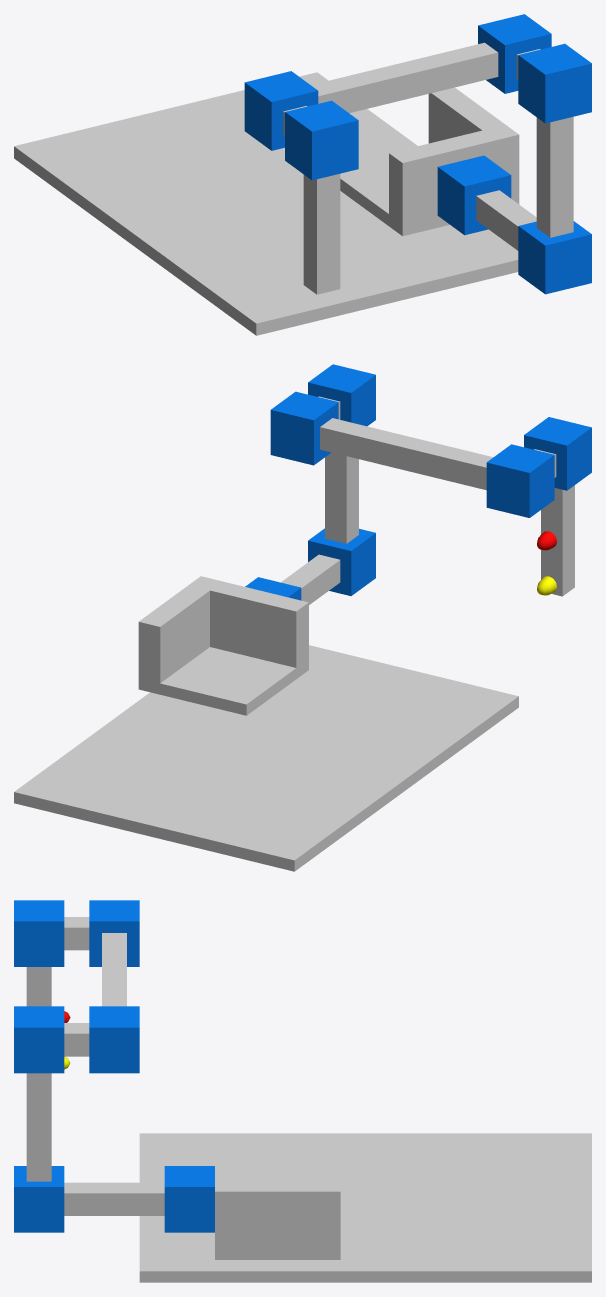
3 renders of one model, top to bottom at view 1: azimuth 30°, elevation 25°; view 2: azimuth 150°, elevation 25°; view 3: azimuth 270°, elevation 25°, orthographic. The views are drawn at different scales.
Visible parts, largest first — view 1: the_node (×15); view 2: the_node (×12); view 3: the_node (×16).
Boxes of the visible parts, box(x1,y1,x2,y2) form: the_node (×15): box(14, 14, 591, 335); the_node (×12): box(14, 364, 591, 871); the_node (×16): box(14, 900, 591, 1282).
Bounding box in the file's own units: 1728 × 1344 × 2944.
